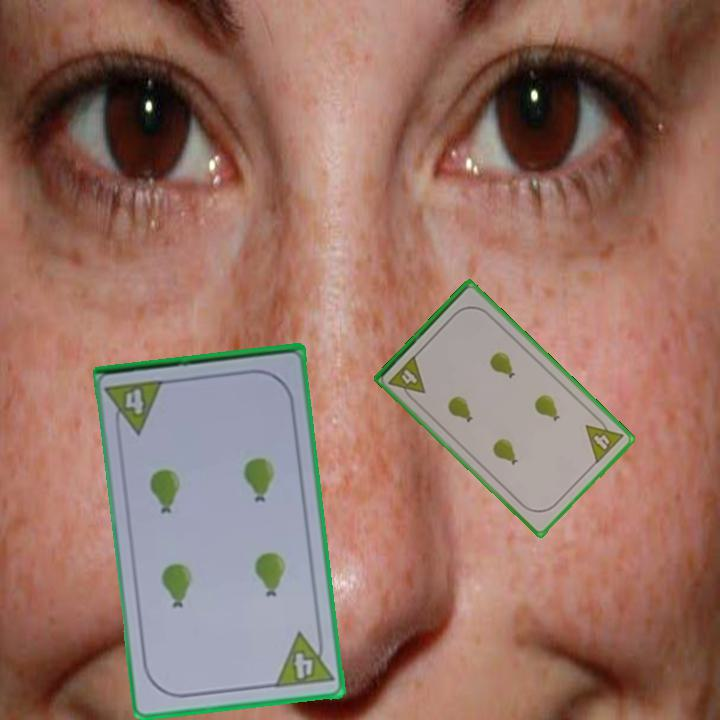4p: (271, 627, 336, 691), (103, 376, 169, 439), (582, 412, 627, 466), (385, 351, 428, 405)
